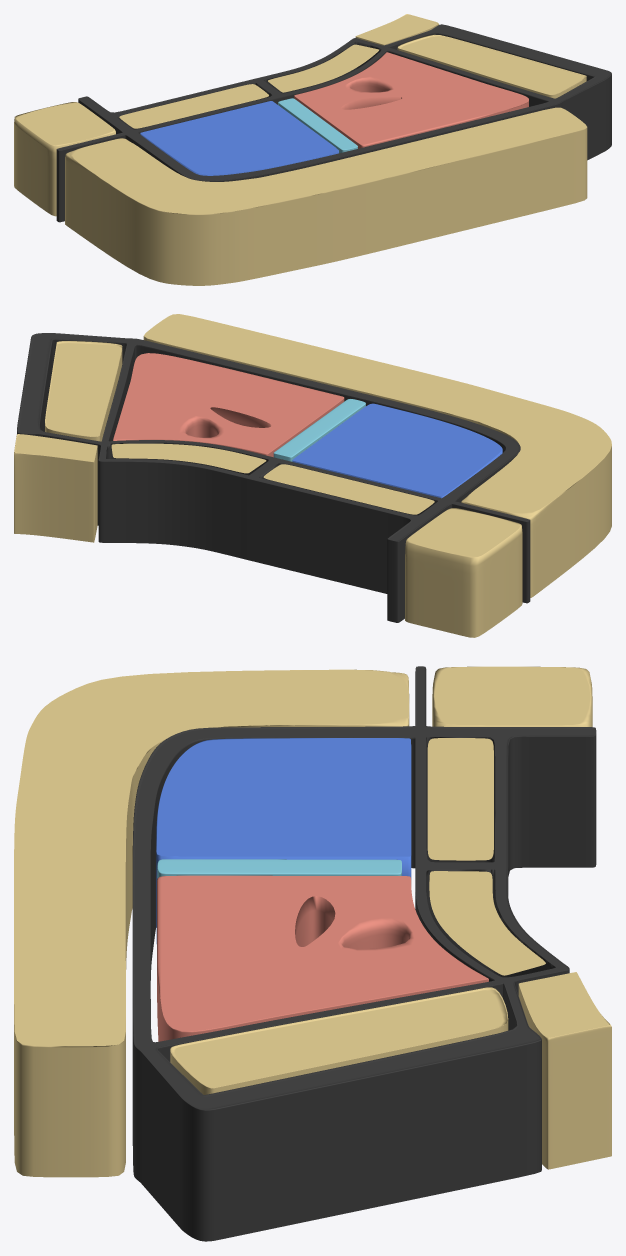
Rendered from Ground5.fbx.
3 views of the same model, one above another, from view 1: azimuth 30°, elevation 25°; view 2: azimuth 150°, elevation 25°; view 3: azimuth 270°, elevation 25° (orthographic). The views are drawn at different scales.
Visible parts, largest first — view 1: Plane.007, Plane.004, Plane.003, Plane.002, Plane.008, Plane.006, Plane, Plane.001, Plane.009, Plane.005; view 2: Plane.004, Plane.007, Plane.003, Plane.008, Plane.002, Plane.009, Plane.006, Plane, Plane.001, Plane.005; view 3: Plane.004, Plane.007, Plane.003, Plane.002, Plane.006, Plane.009, Plane.008, Plane, Plane.001, Plane.005.
Part boxes in pixels (x1,y1,x2,y2): Plane.007: (65,107,587,285); Plane.004: (56,24,611,222); Plane.003: (294,52,528,148); Plane.002: (140,101,338,175); Plane.008: (14,102,115,216); Plane.006: (397,34,586,98); Plane: (119,84,268,128); Plane.001: (268,44,378,92); Plane.009: (355,14,438,45); Plane.005: (278,98,357,153); Plane.004: (17,333,530,622); Plane.007: (143,314,611,597); Plane.003: (113,353,344,457); Plane.008: (405,508,522,637); Plane.002: (292,403,502,498); Plane.009: (14,434,97,542); Plane.006: (45,341,122,441); Plane: (263,464,434,514); Plane.001: (111,443,266,473); Plane.005: (273,399,365,461); Plane.004: (132,666,596,1241); Plane.007: (14,669,409,1177); Plane.003: (157,875,488,1041); Plane.002: (156,738,411,943); Plane.006: (170,987,508,1094); Plane.009: (518,972,611,1169); Plane.008: (432,666,592,726); Plane: (427,738,493,860); Plane.001: (429,871,545,975); Plane.005: (157,859,401,878).
Size of the model in its own units: 724 by 108 by 412.
